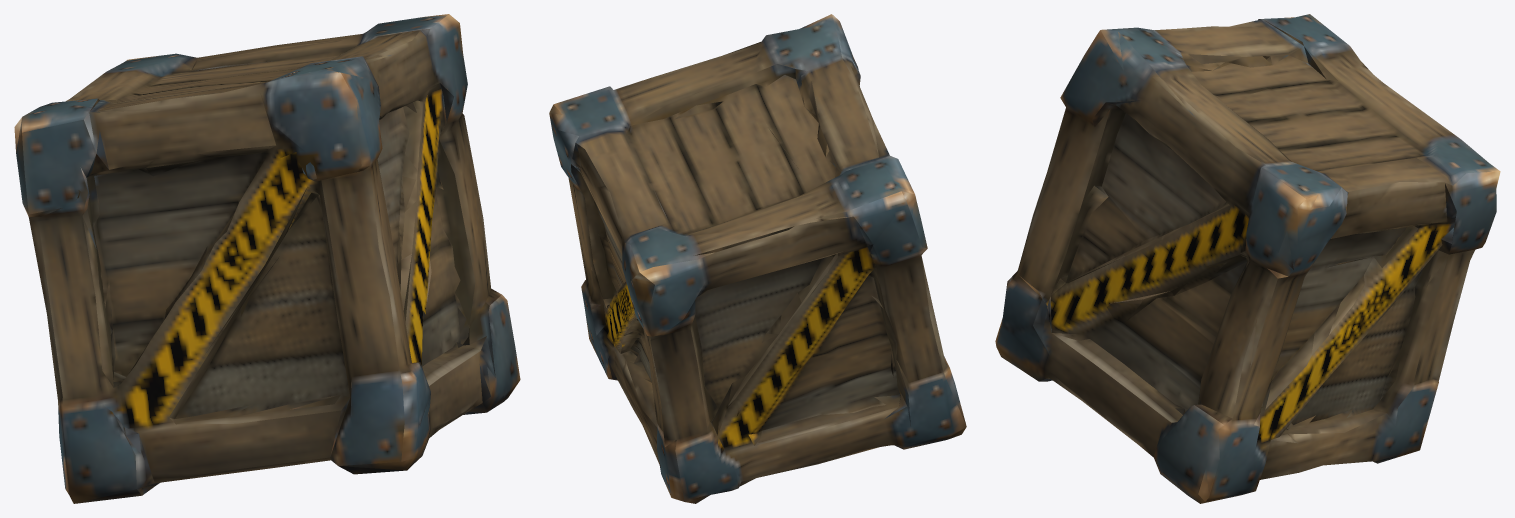
The model's file is stylized_wooden_cargo_crate_with_LOD2.glb.
3 renders of one model, left to right at view 1: azimuth 30°, elevation 25°; view 2: azimuth 150°, elevation 25°; view 3: azimuth 270°, elevation 25°, orthographic. The views are drawn at different scales.
Parts seen in each view (by area): view 1: stylized_wooden_cargo_crate_with_LOD2; view 2: stylized_wooden_cargo_crate_with_LOD2; view 3: stylized_wooden_cargo_crate_with_LOD2.
Boxes of the visible parts, bbox=[...] form: stylized_wooden_cargo_crate_with_LOD2: bbox=[14, 14, 520, 503]; stylized_wooden_cargo_crate_with_LOD2: bbox=[549, 14, 966, 503]; stylized_wooden_cargo_crate_with_LOD2: bbox=[995, 14, 1500, 503].
Size of the model in its own units: 1 by 1 by 1.08.
Materials: 1 (1 with a texture image).
